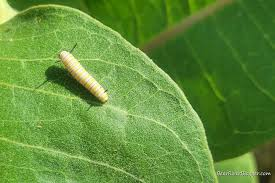Caterpillar: (56, 43, 108, 103)
